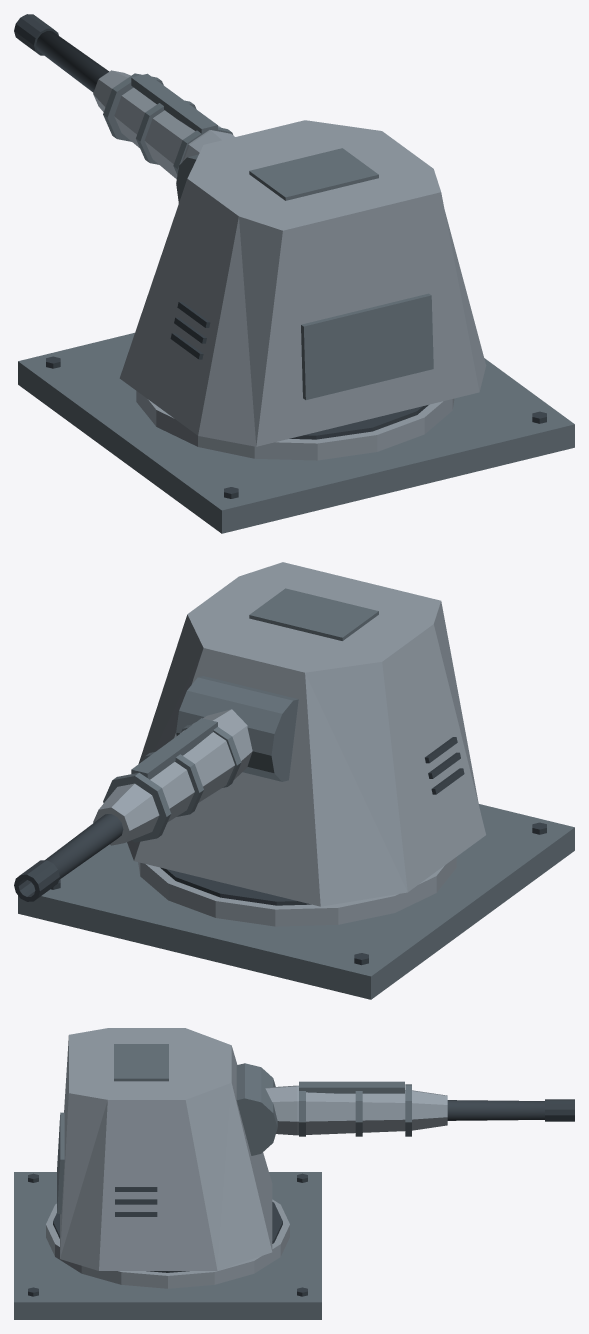
File: MOD_Gun76_U1.fbx
3 views of the same model, one above another, from view 1: azimuth 30°, elevation 25°; view 2: azimuth 150°, elevation 25°; view 3: azimuth 270°, elevation 25° (orthographic). The views are drawn at different scales.
Parts seen in each view (by area): view 1: BroadStealthShield, FixedDeckFoot, TurretPivot_Visual_Deck_Grey, FixedBearingPlinth, FacetedCoolingShroud, ElevationPivot_Visual_Deck_Grey, ElevationPivot_Visual_Gunmetal, MOD_Gun76_U1_Root_Visual_Gunmetal, TurretPivot_Visual_Gunmetal; view 2: BroadStealthShield, FixedDeckFoot, ElevationPivot_Visual_Deck_Grey, FacetedCoolingShroud, FixedBearingPlinth, TurretPivot_Visual_Deck_Grey, ElevationPivot_Visual_Gunmetal, MOD_Gun76_U1_Root_Visual_Gunmetal, TurretPivot_Visual_Gunmetal; view 3: BroadStealthShield, FixedDeckFoot, FacetedCoolingShroud, ElevationPivot_Visual_Deck_Grey, FixedBearingPlinth, TurretPivot_Visual_Deck_Grey, ElevationPivot_Visual_Gunmetal, MOD_Gun76_U1_Root_Visual_Gunmetal, TurretPivot_Visual_Gunmetal.
Boxes of the visible parts, bbox=[...] form: BroadStealthShield: bbox=[119, 120, 486, 446]; FixedDeckFoot: bbox=[18, 332, 574, 533]; TurretPivot_Visual_Deck_Grey: bbox=[249, 148, 433, 399]; FixedBearingPlinth: bbox=[136, 391, 454, 460]; FacetedCoolingShroud: bbox=[93, 70, 234, 179]; ElevationPivot_Visual_Deck_Grey: bbox=[103, 73, 233, 203]; ElevationPivot_Visual_Gunmetal: bbox=[14, 14, 109, 92]; MOD_Gun76_U1_Root_Visual_Gunmetal: bbox=[46, 356, 546, 498]; TurretPivot_Visual_Gunmetal: bbox=[170, 302, 210, 359]; BroadStealthShield: bbox=[127, 562, 485, 906]; FixedDeckFoot: bbox=[18, 804, 574, 999]; ElevationPivot_Visual_Deck_Grey: bbox=[103, 676, 298, 842]; FacetedCoolingShroud: bbox=[93, 709, 252, 845]; FixedBearingPlinth: bbox=[138, 857, 456, 926]; TurretPivot_Visual_Deck_Grey: bbox=[249, 588, 378, 640]; ElevationPivot_Visual_Gunmetal: bbox=[14, 814, 123, 901]; MOD_Gun76_U1_Root_Visual_Gunmetal: bbox=[51, 822, 546, 965]; TurretPivot_Visual_Gunmetal: bbox=[425, 737, 464, 794]; BroadStealthShield: bbox=[60, 1028, 272, 1270]; FixedDeckFoot: bbox=[14, 1172, 321, 1319]; FacetedCoolingShroud: bbox=[265, 1085, 447, 1135]; ElevationPivot_Visual_Deck_Grey: bbox=[236, 1063, 411, 1155]; FixedBearingPlinth: bbox=[46, 1199, 289, 1288]; TurretPivot_Visual_Deck_Grey: bbox=[57, 1044, 168, 1214]; ElevationPivot_Visual_Gunmetal: bbox=[447, 1099, 574, 1121]; MOD_Gun76_U1_Root_Visual_Gunmetal: bbox=[28, 1173, 307, 1296]; TurretPivot_Visual_Gunmetal: bbox=[115, 1187, 157, 1216].
Size of the model in its own units: 174 by 121 by 317.
